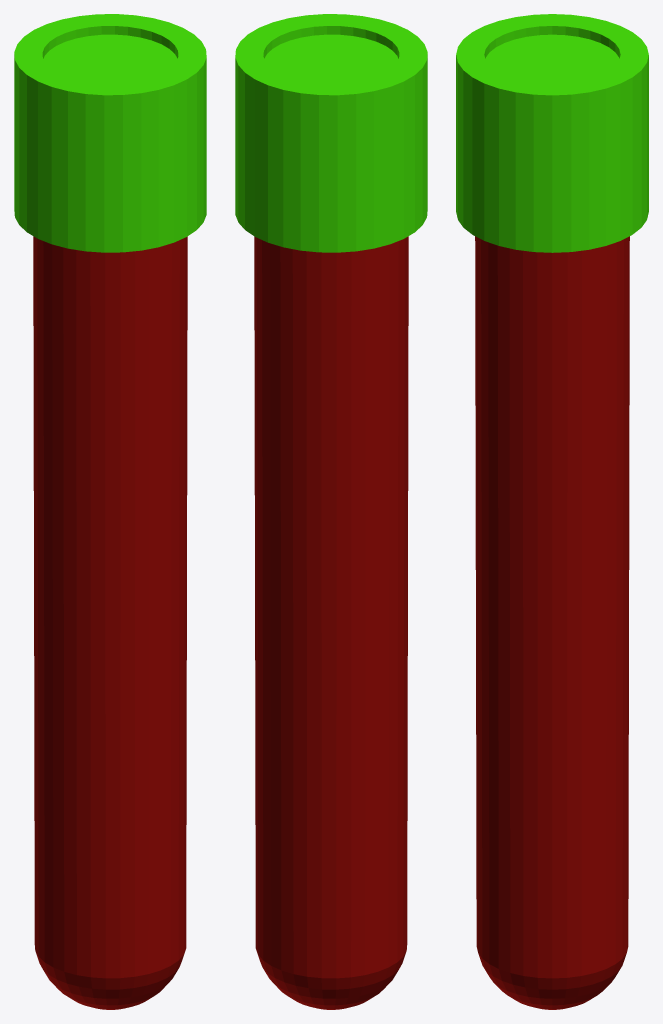
The model's file is BloodVial.fbx.
3 renders of one model, left to right at view 1: azimuth 30°, elevation 25°; view 2: azimuth 150°, elevation 25°; view 3: azimuth 270°, elevation 25°, orthographic.
Visible parts, largest first — view 1: Sphere; view 2: Sphere; view 3: Sphere.
Part boxes in pixels (<box>): Sphere: <box>14,14,206,1009</box>; Sphere: <box>235,14,427,1009</box>; Sphere: <box>456,14,648,1009</box>.
Bounding box in the file's own units: 249 × 1352 × 249.
